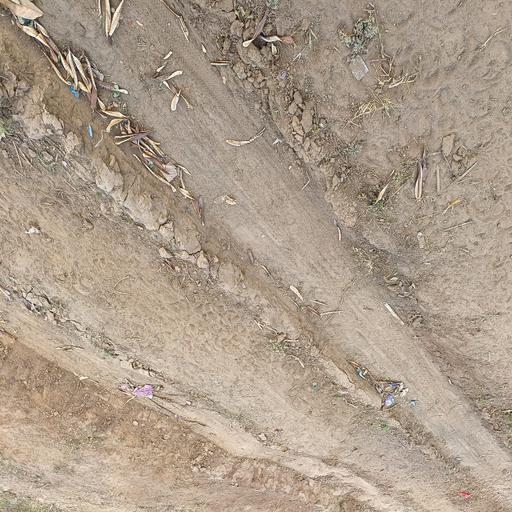vehicle_track: (32, 0, 512, 512), (0, 288, 424, 512)
